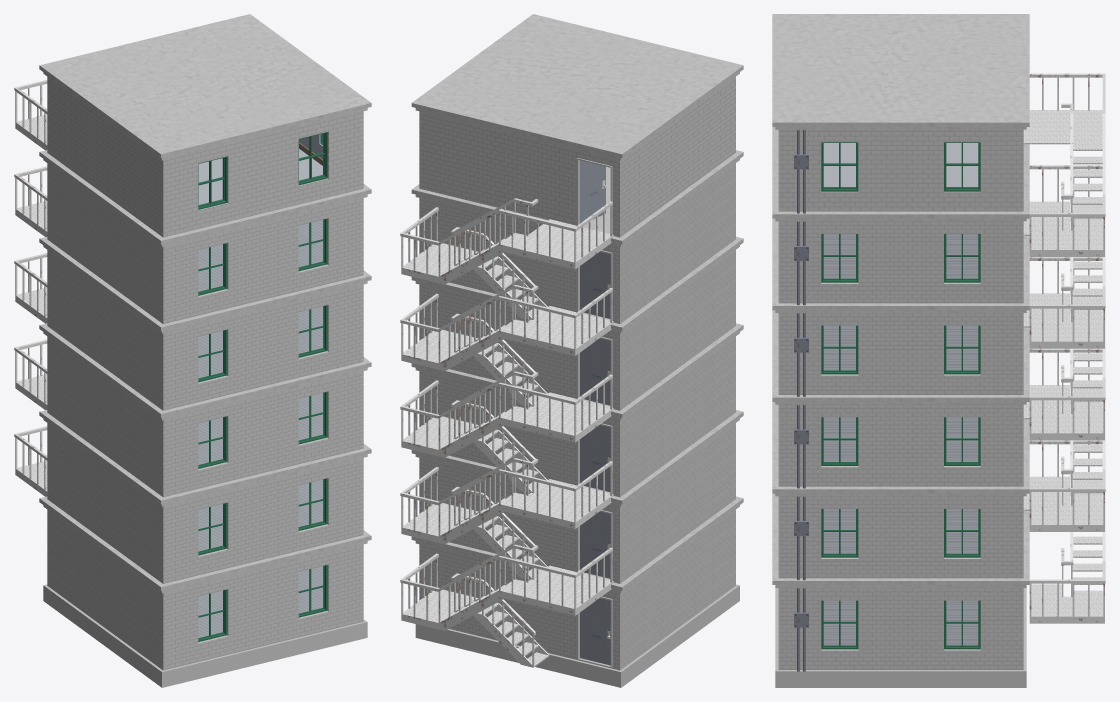
3 views of the same model, side by side, from view 1: azimuth 30°, elevation 25°; view 2: azimuth 150°, elevation 25°; view 3: azimuth 270°, elevation 25° (orthographic). The views are drawn at different scales.
Visible parts, largest first — view 1: 立方体.033, 立方体.076, 立方体.011, 立方体.081, 立方体.007, 立方体.039, 立方体.026, 立方体.025, 立方体.001, 立方体.079, 立方体.084, 立方体.046 (+25 smaller); view 2: 立方体.033, 立方体.026, 立方体.007, 立方体.081, 立方体.076, 立方体.039, 立方体.011, 立方体.008, 立方体.020, 立方体.015, 立方体.086, 立方体.010 (+24 smaller); view 3: 立方体.033, 立方体.011, 立方体.026, 立方体.039, 立方体.081, 立方体.007, 立方体.076, 立方体.024, 立方体.025, 立方体.049, 立方体.014, 立方体.019 (+30 smaller).
Part boxes in pixels (x1=…): 立方体.033: x1=39, y1=14, x2=371, y2=158; 立方体.076: x1=47, y1=250, x2=363, y2=410; 立方体.011: x1=47, y1=423, x2=363, y2=583; 立方体.081: x1=47, y1=163, x2=363, y2=323; 立方体.007: x1=47, y1=510, x2=363, y2=670; 立方体.039: x1=47, y1=336, x2=363, y2=497; 立方体.026: x1=47, y1=77, x2=363, y2=237; 立方体.025: x1=43, y1=584, x2=367, y2=687; 立方体.001: x1=39, y1=496, x2=371, y2=591; 立方体.079: x1=39, y1=237, x2=371, y2=331; 立方体.084: x1=39, y1=150, x2=371, y2=244; 立方体.046: x1=39, y1=323, x2=371, y2=417; 立方体.033: x1=411, y1=14, x2=743, y2=157; 立方体.026: x1=419, y1=77, x2=735, y2=237; 立方体.007: x1=419, y1=509, x2=735, y2=670; 立方体.081: x1=419, y1=163, x2=735, y2=323; 立方体.076: x1=419, y1=250, x2=735, y2=410; 立方体.039: x1=419, y1=336, x2=735, y2=497; 立方体.011: x1=419, y1=423, x2=735, y2=583; 立方体.008: x1=400, y1=544, x2=613, y2=667; 立方体.020: x1=400, y1=285, x2=613, y2=406; 立方体.015: x1=400, y1=371, x2=613, y2=493; 立方体.086: x1=400, y1=198, x2=613, y2=320; 立方体.010: x1=400, y1=458, x2=613, y2=580; 立方体.033: x1=772, y1=14, x2=1029, y2=126; 立方体.011: x1=778, y1=496, x2=1023, y2=578; 立方体.026: x1=778, y1=129, x2=1023, y2=211; 立方体.039: x1=778, y1=404, x2=1023, y2=486; 立方体.081: x1=778, y1=221, x2=1023, y2=303; 立方体.007: x1=778, y1=588, x2=1023, y2=669; 立方体.076: x1=778, y1=313, x2=1023, y2=394; 立方体.024: x1=1023, y1=110, x2=1103, y2=249; 立方体.025: x1=775, y1=588, x2=1026, y2=687; 立方体.049: x1=1023, y1=385, x2=1103, y2=524; 立方体.014: x1=1023, y1=294, x2=1103, y2=432; 立方体.019: x1=1023, y1=202, x2=1103, y2=340.
Size of the model in its own units: 840 by 2040 by 1087.
15 materials, 12 textured.
